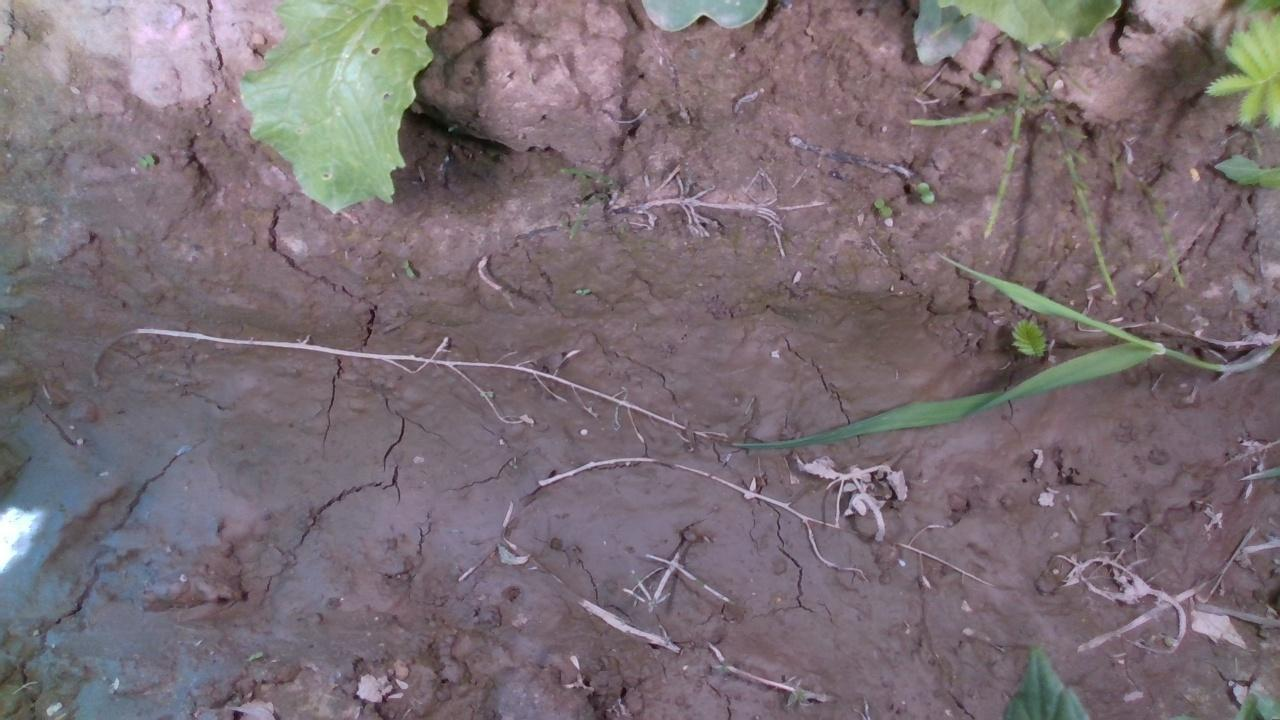weed: (1008, 316, 1046, 357), (970, 69, 1002, 88), (913, 179, 935, 204), (133, 152, 156, 169), (872, 197, 892, 216), (399, 256, 414, 281), (245, 648, 263, 662), (573, 287, 593, 295)
